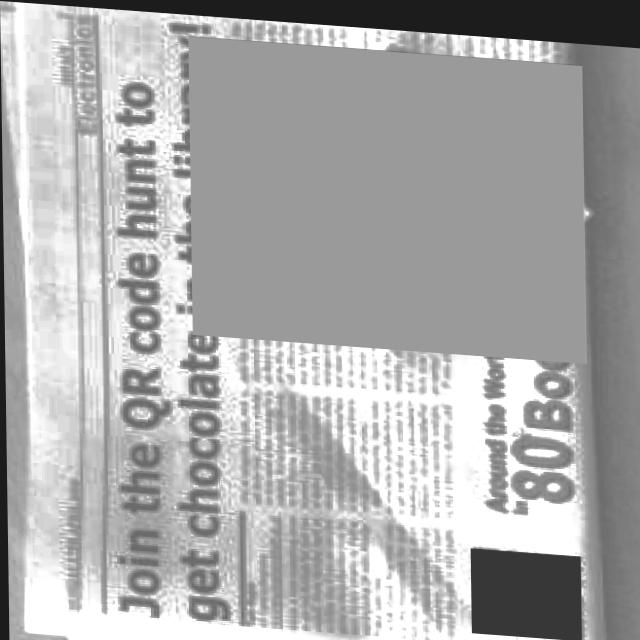qr_code: (188, 33, 586, 354), (469, 540, 580, 631)
